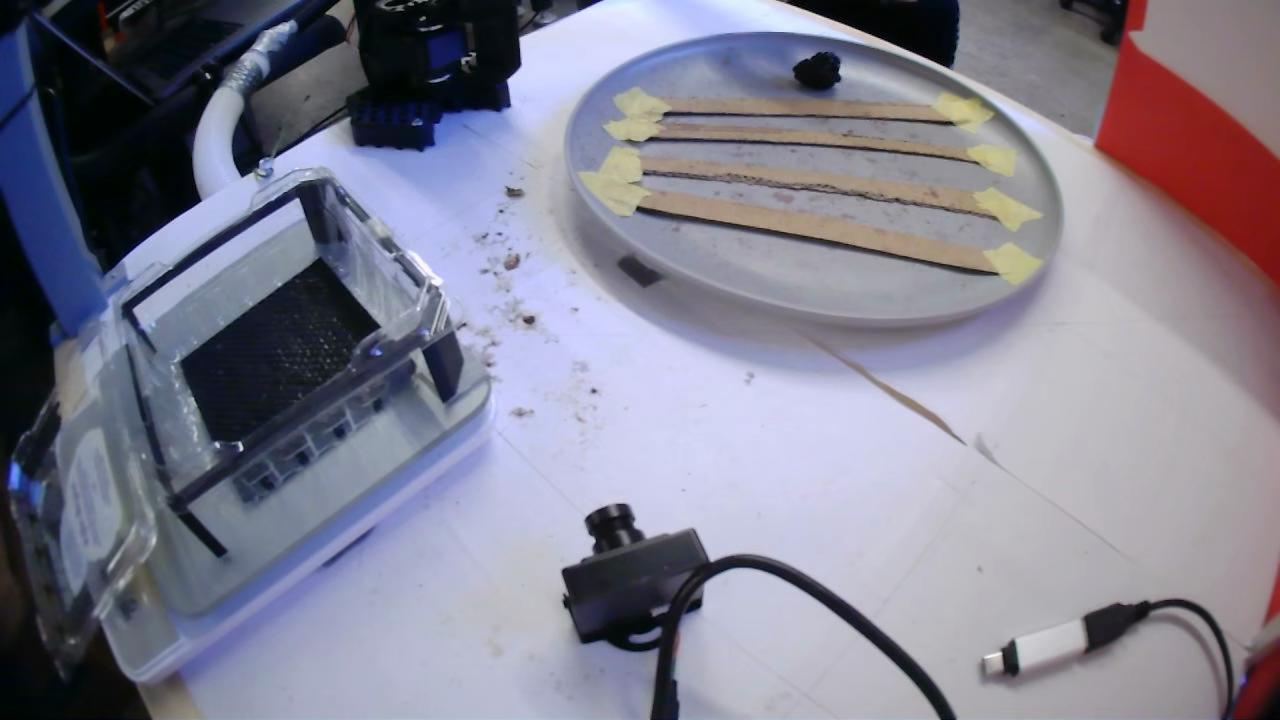berry: (793, 52, 840, 90)
